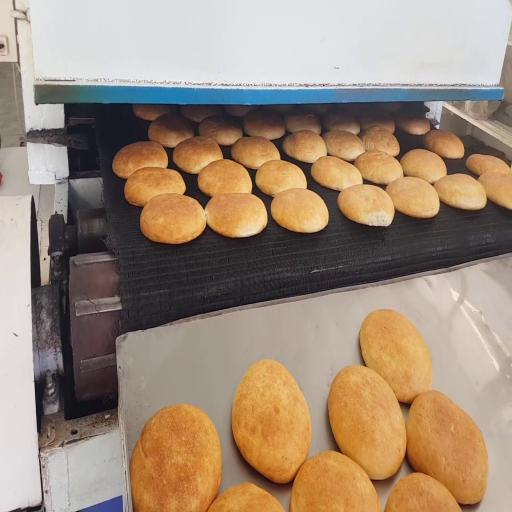bread: (232, 360, 311, 483), (130, 405, 221, 511), (406, 391, 488, 504), (328, 366, 406, 479), (360, 310, 432, 403), (290, 451, 381, 511), (140, 194, 206, 244), (386, 473, 461, 511), (205, 193, 267, 237), (271, 189, 328, 232), (124, 167, 185, 206), (338, 184, 394, 226), (386, 177, 439, 218), (209, 483, 284, 511), (113, 142, 168, 179), (198, 160, 252, 197), (173, 136, 223, 174), (434, 174, 486, 210), (256, 160, 306, 197), (311, 156, 362, 191), (355, 150, 403, 184), (400, 149, 446, 184), (231, 137, 280, 169), (148, 114, 194, 147), (283, 130, 327, 163), (199, 116, 242, 146), (323, 131, 365, 161), (243, 110, 285, 140), (478, 173, 511, 209), (360, 126, 399, 156), (424, 130, 464, 159), (322, 108, 360, 135), (466, 154, 510, 176), (284, 110, 321, 134), (395, 113, 430, 135), (360, 111, 395, 133), (180, 105, 222, 122), (133, 104, 176, 120), (224, 105, 256, 117), (303, 104, 333, 115), (264, 105, 293, 115), (376, 102, 402, 112)
